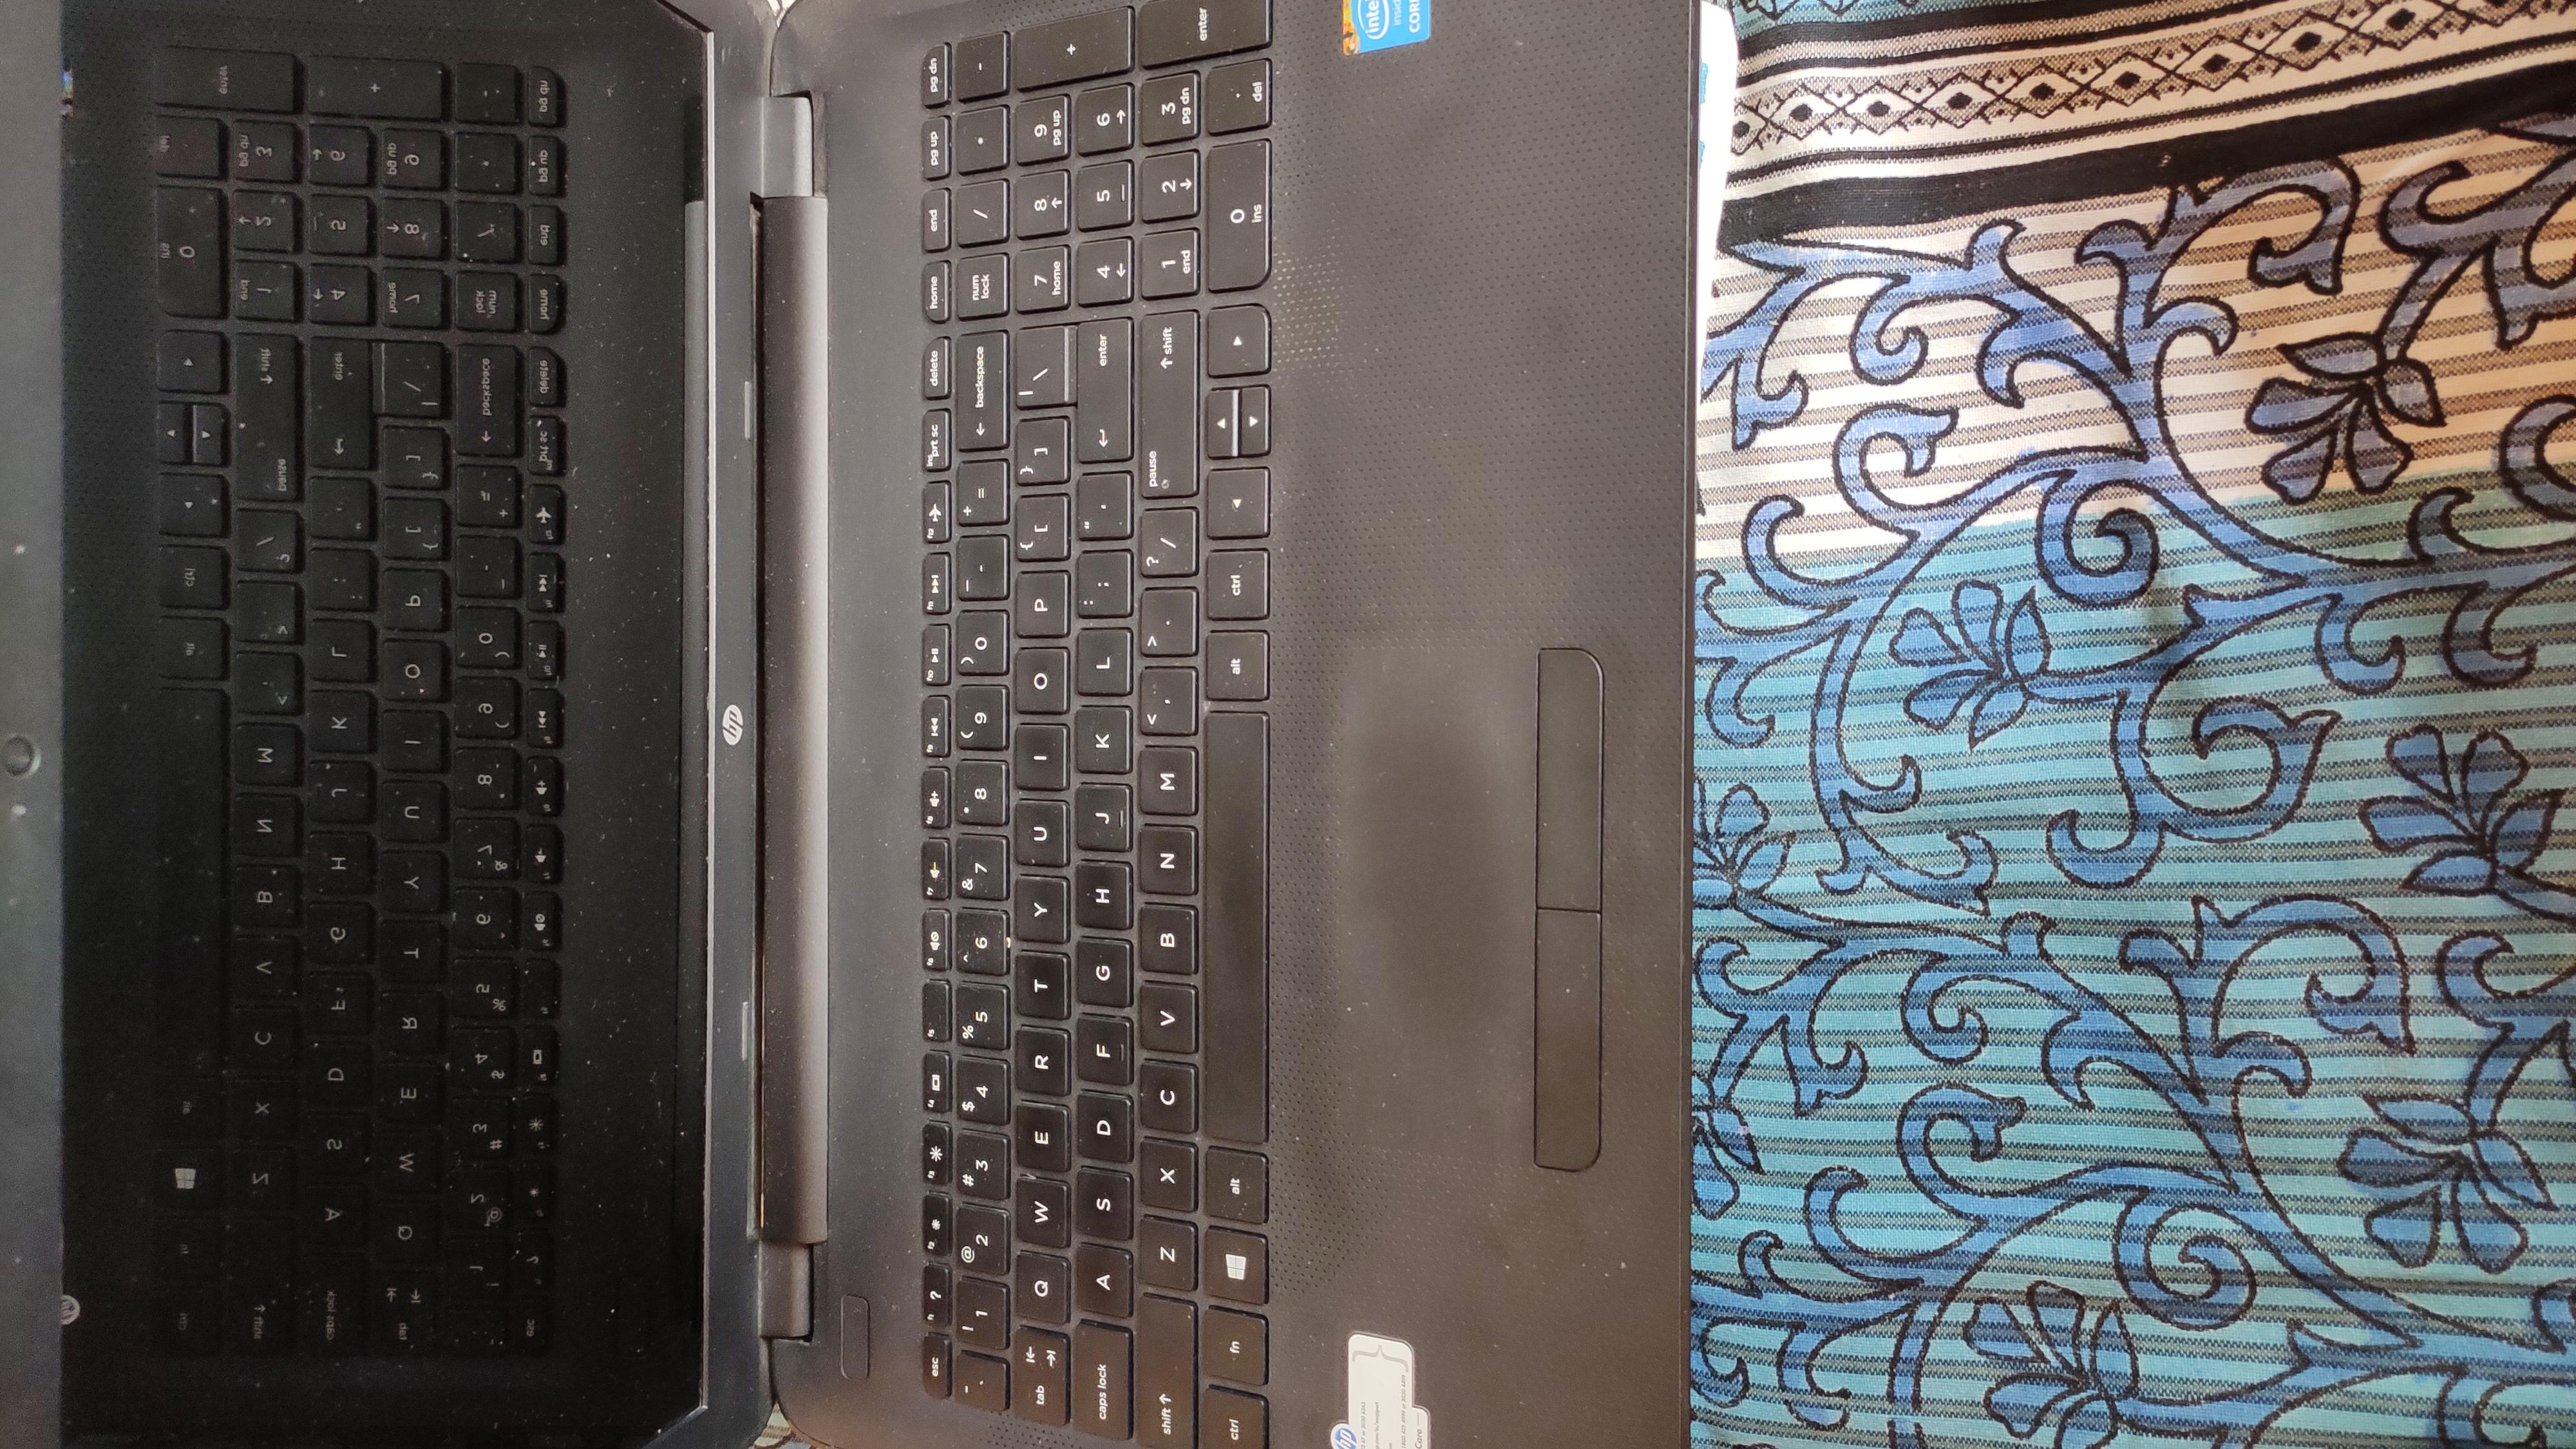laptop: (0, 14, 1713, 1449)
